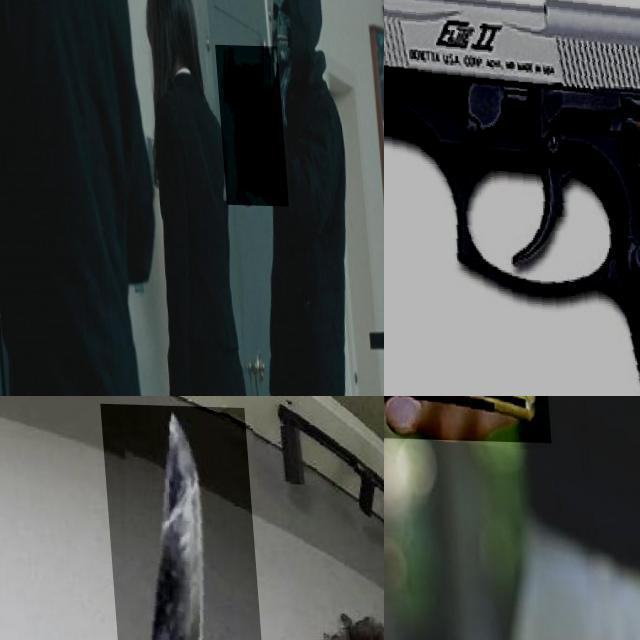-: (98, 401, 271, 640), (384, 396, 608, 471)
gun-knife-thesis - v11 Yolov5 augmented: (384, 0, 640, 396), (212, 42, 284, 204)
